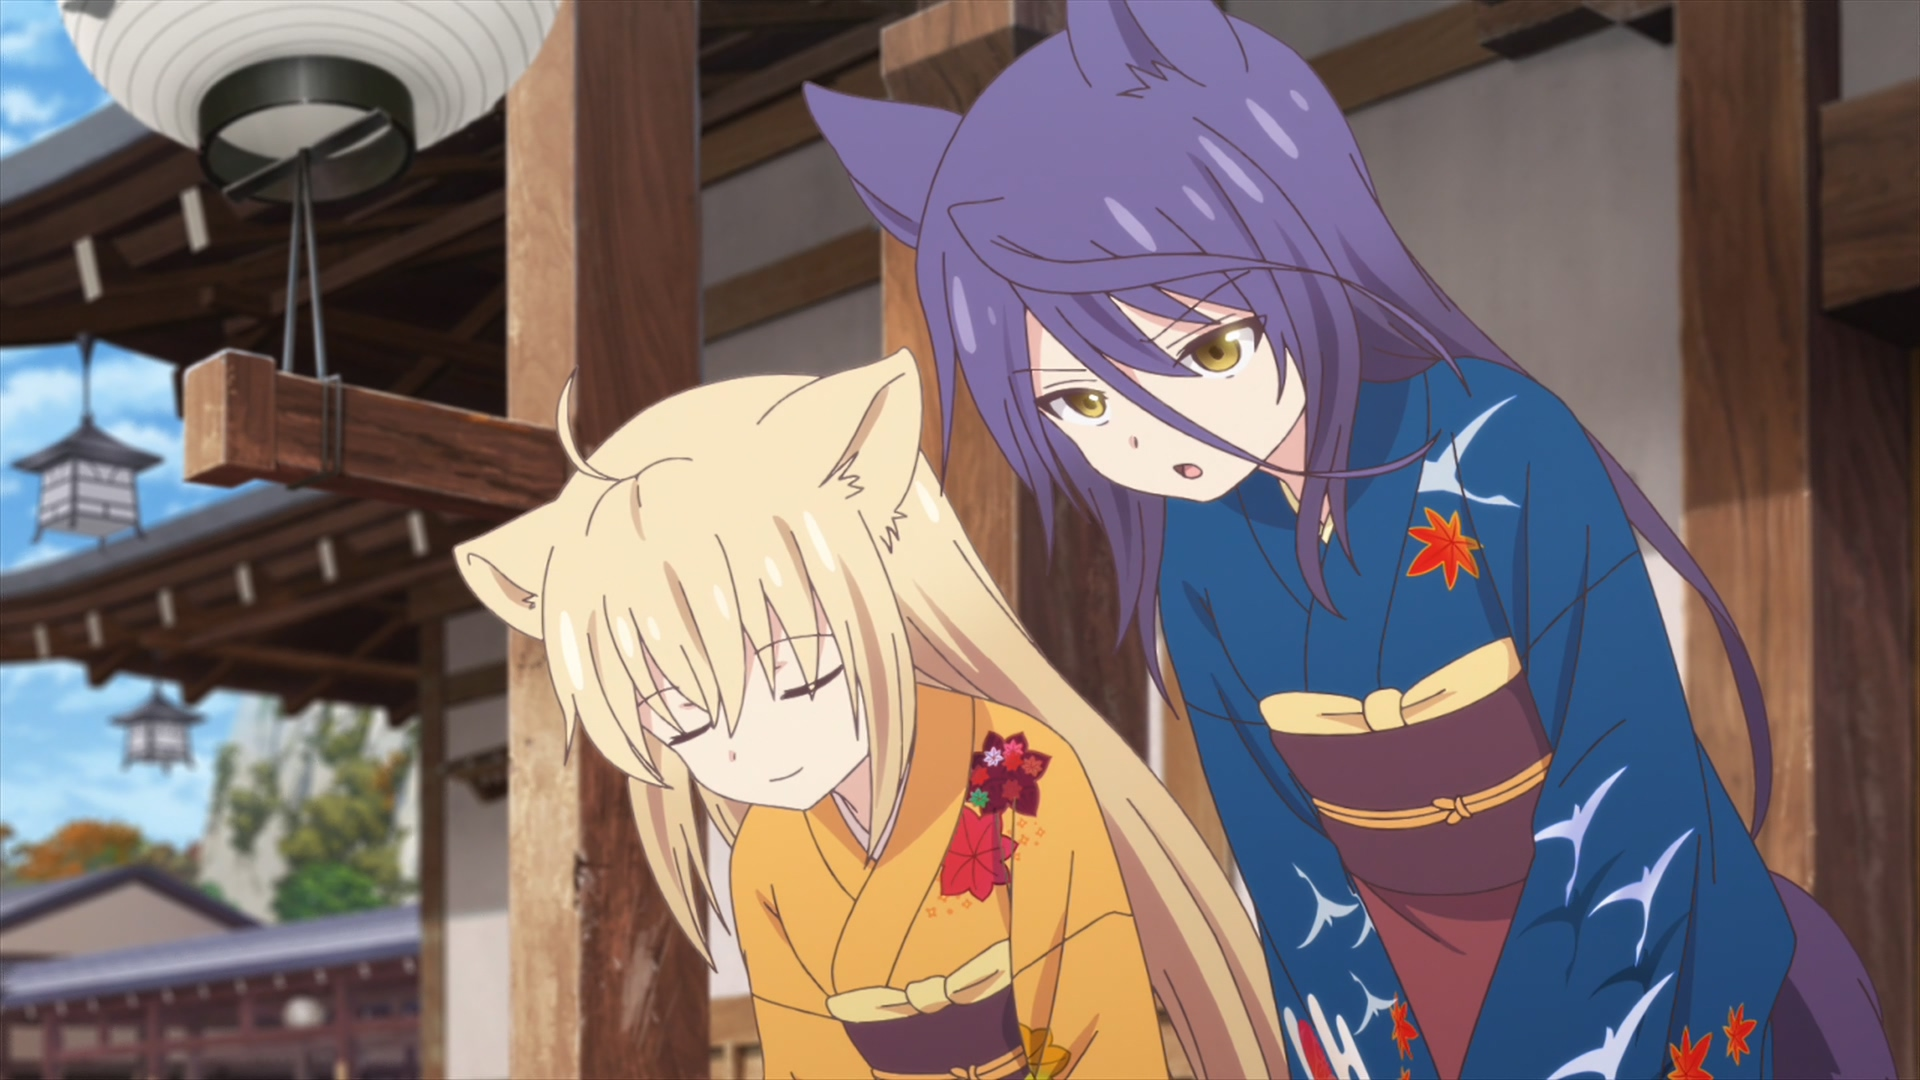柚: (454, 349, 1284, 1080)
皋: (800, 1, 1896, 1080)
